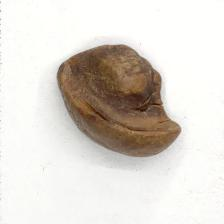NG: (61, 38, 181, 134)
